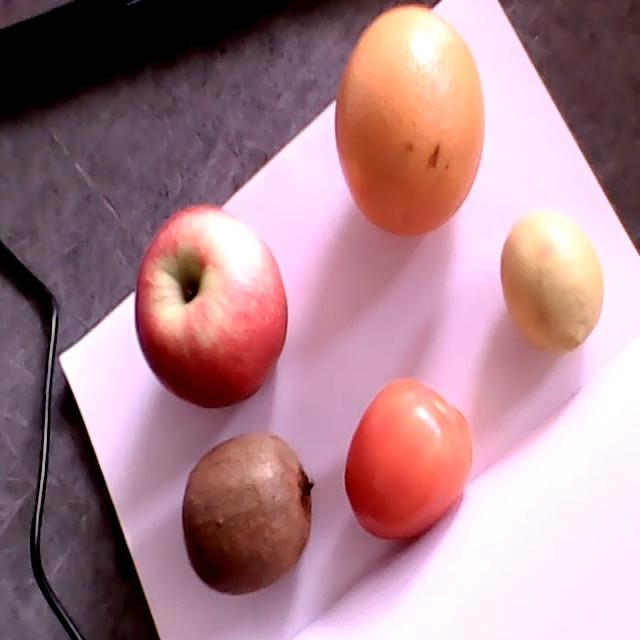apple: (135, 205, 288, 409)
kiwi: (184, 433, 316, 596)
lemon: (501, 217, 604, 351)
orange: (336, 4, 485, 235)
tomato: (345, 378, 472, 542)
